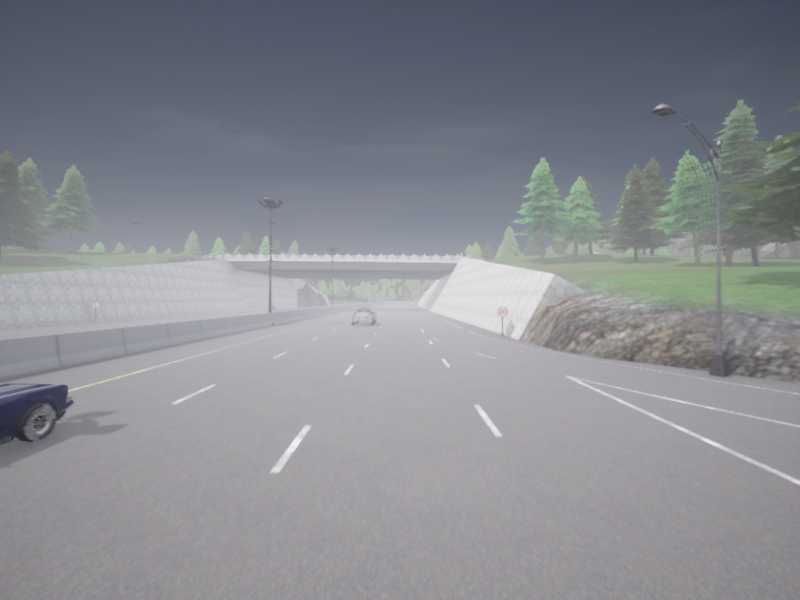vehicle: (0, 384, 73, 444), (352, 308, 376, 324)
